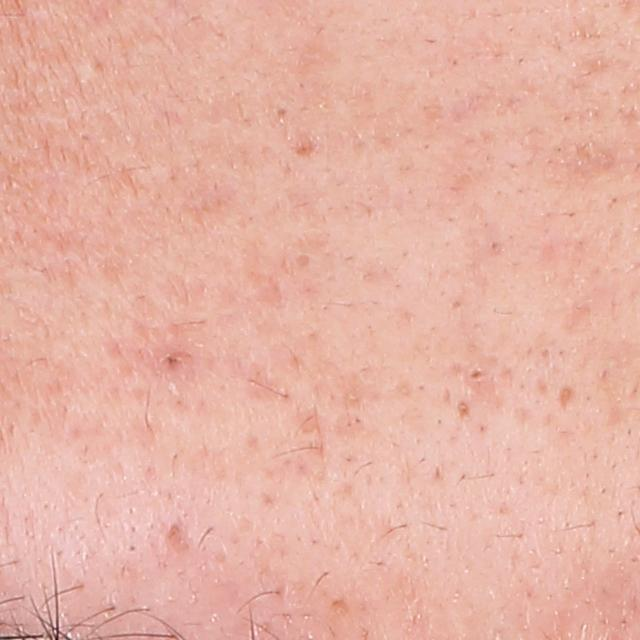atrophic_scar: (549, 142, 621, 174), (558, 300, 591, 334), (556, 381, 577, 414)
comedo: (464, 362, 488, 386), (452, 397, 473, 424), (293, 251, 315, 269), (273, 104, 292, 121)
